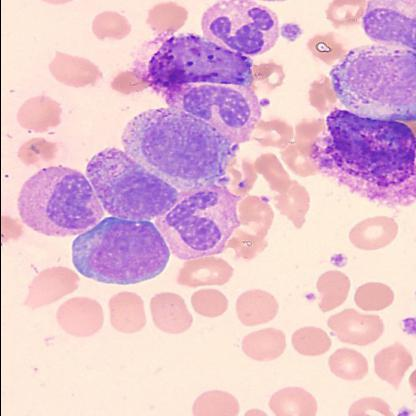Promyelocyte: (122, 105, 232, 190), (325, 42, 415, 119)
